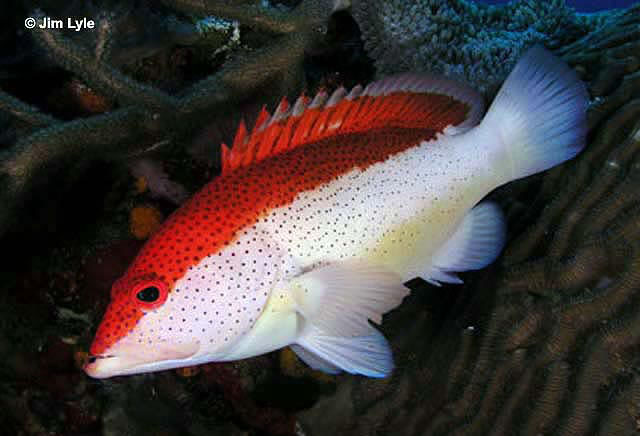Cephalopholis_fulvaw: (64, 34, 599, 414)
